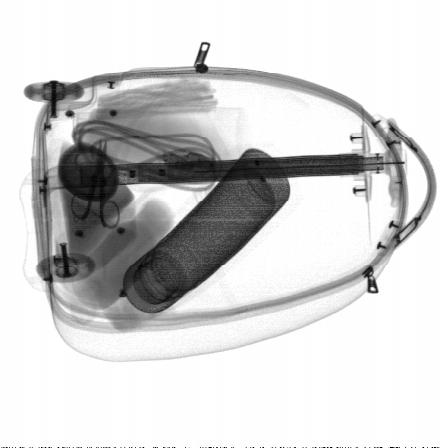Scissors: (68, 135, 121, 229)
